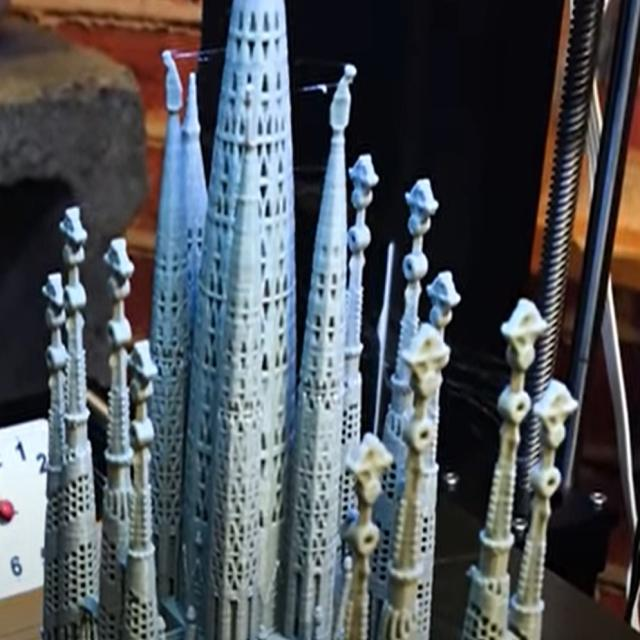stringing: (172, 42, 230, 76), (302, 74, 341, 103)
